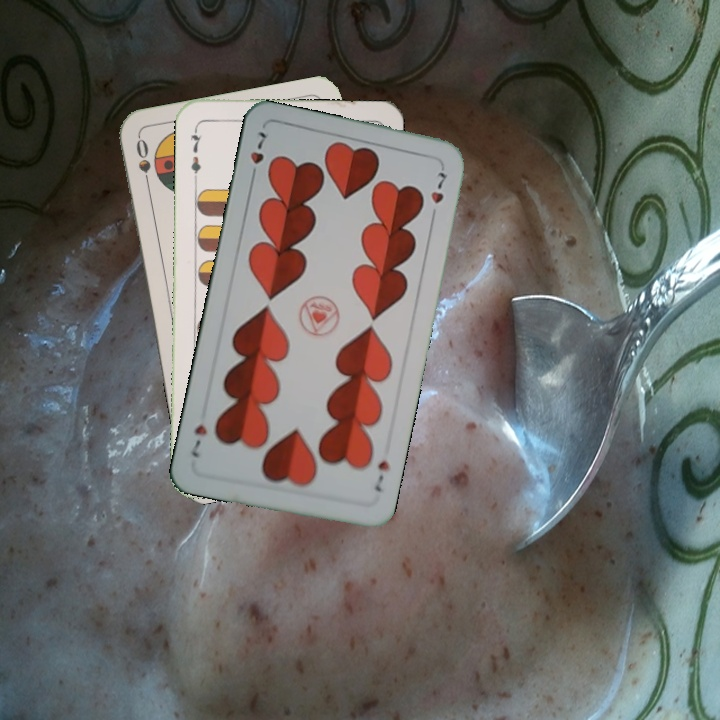E7: (186, 123, 204, 182)
H7: (246, 127, 270, 184), (370, 456, 392, 495)
SO: (132, 134, 153, 193)
